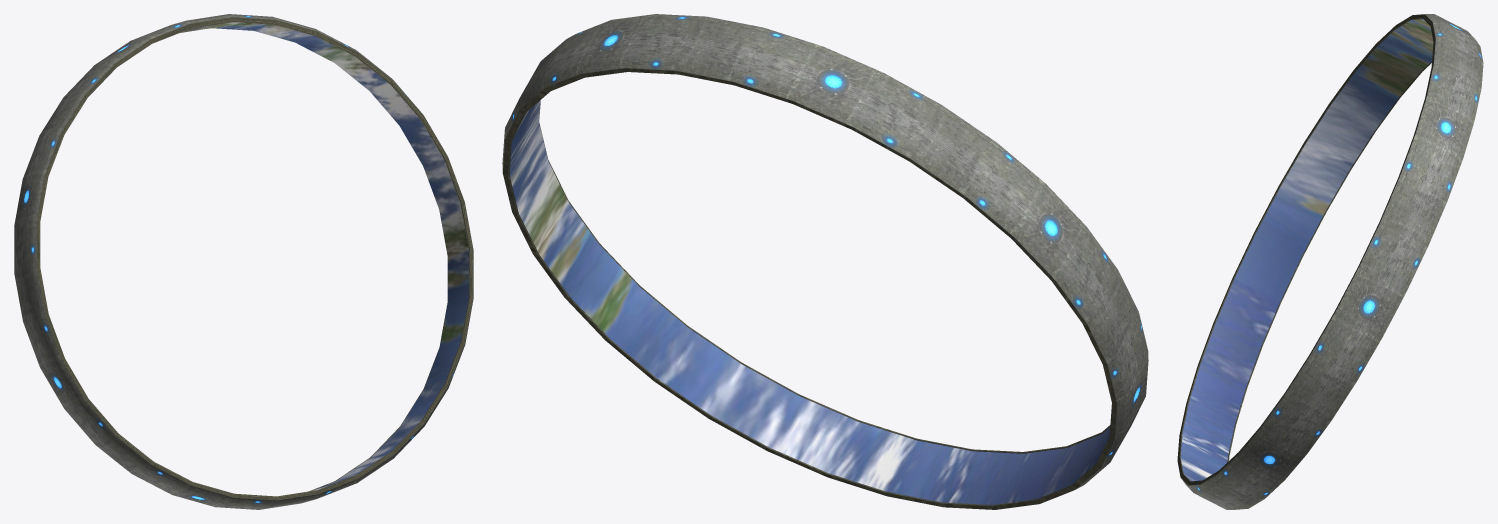
File: sacred_ring_halo.glb
The picture shows the model from 3 angles, left to right: view 1: azimuth 30°, elevation 25°; view 2: azimuth 150°, elevation 25°; view 3: azimuth 270°, elevation 25°; orthographic projection. The views are drawn at different scales.
Visible parts, largest first — view 1: Halo Ring; view 2: Halo Ring; view 3: Halo Ring.
Part boxes in pixels (x1=…): Halo Ring: x1=14, y1=14, x2=473, y2=509; Halo Ring: x1=502, y1=14, x2=1148, y2=509; Halo Ring: x1=1177, y1=14, x2=1483, y2=509.
Bounding box in the file's own units: 1906 × 1729 × 1088.
Materials: 3 (3 with a texture image).
